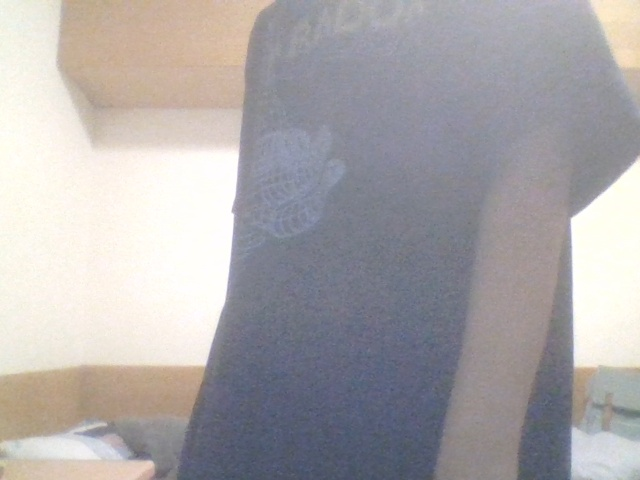human: (175, 1, 640, 480)
